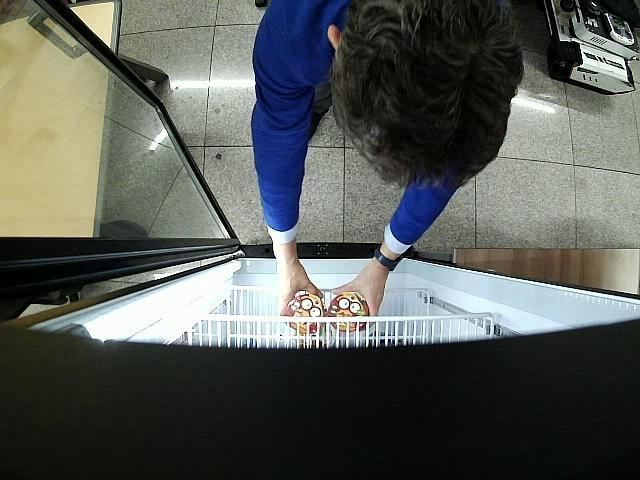06_nuguri_S: (328, 293, 370, 332), (288, 294, 324, 334)
